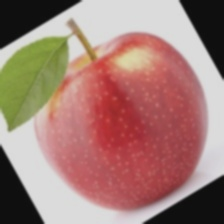apple: (24, 46, 193, 190)
